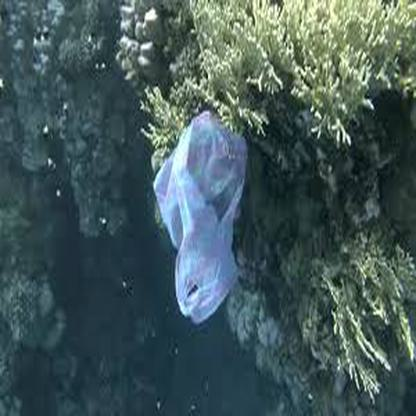plastic bag: (153, 109, 241, 323)
